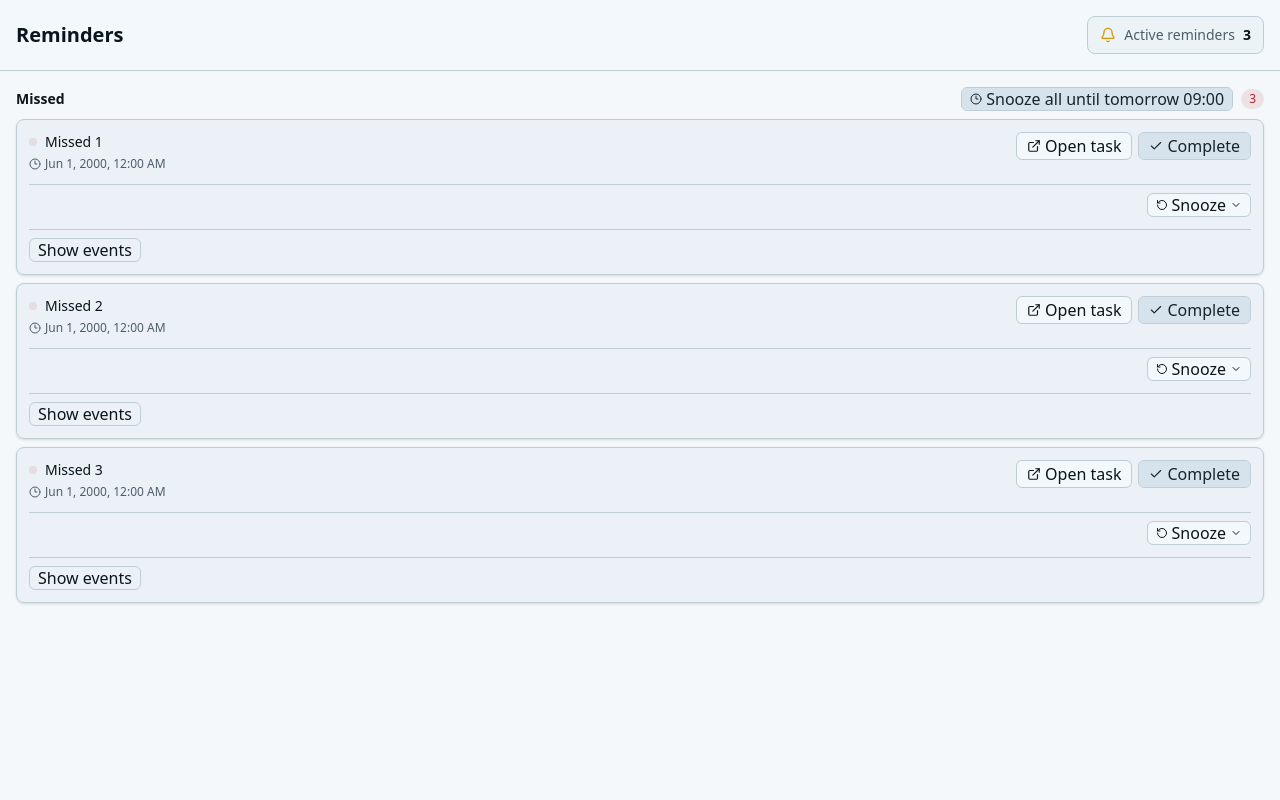
ReminderCenterView › reports partial success when only some missed reminders snooze
Click the button "Snooze all until tomorrow 09:00": point(1097, 99) [961,87,1233,111]
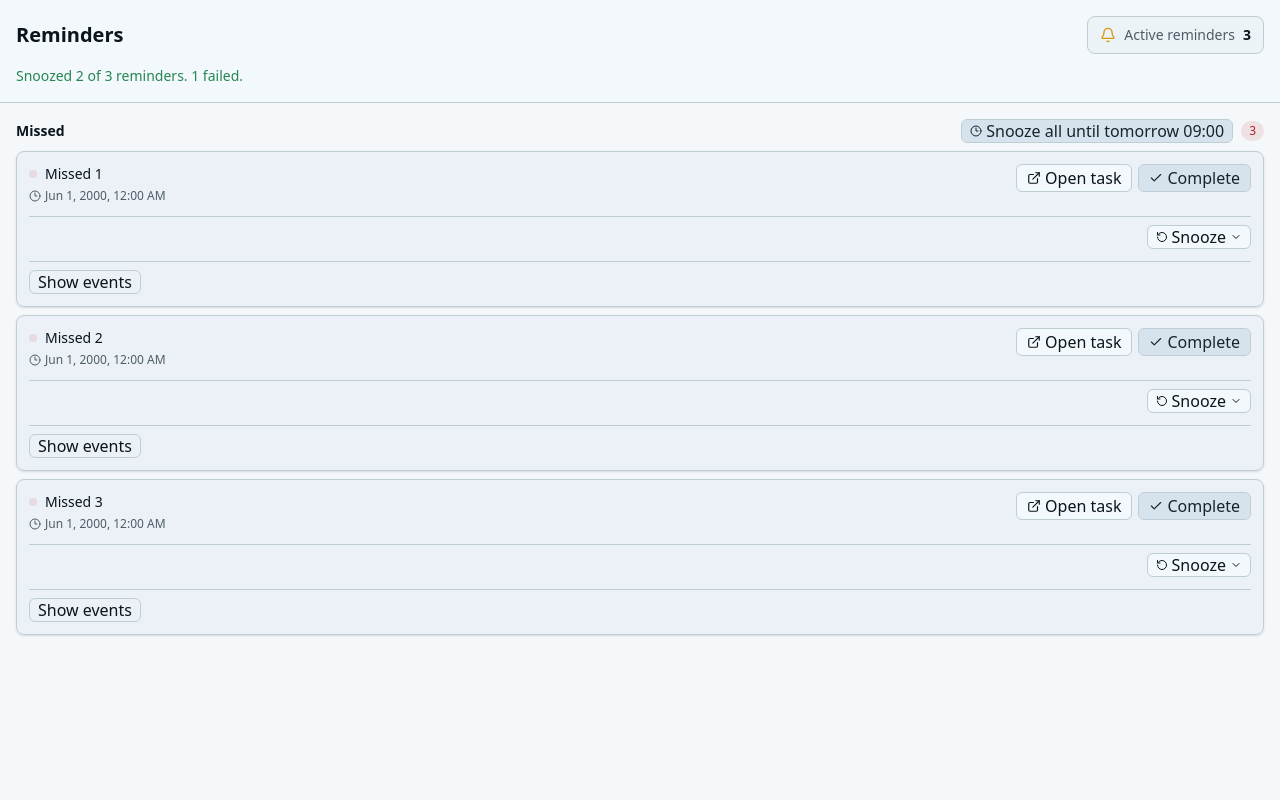
Result: the text "Snoozed 2 of 3 reminders. 1 failed." is shown at [16,66,243,85]
